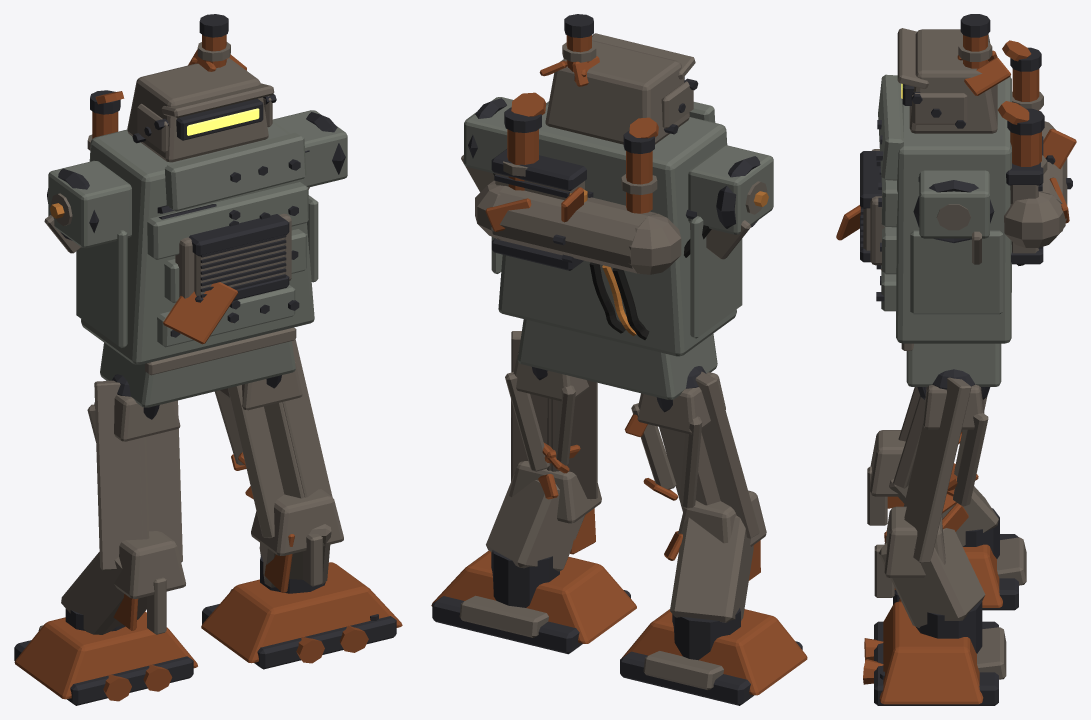
The model's file is ch_reaper.glb.
3 views of the same model, side by side, from view 1: azimuth 30°, elevation 25°; view 2: azimuth 150°, elevation 25°; view 3: azimuth 270°, elevation 25° (orthographic). The views are drawn at different scales.
Visible parts, largest first — view 1: ch_reaper, limb_leg_l, limb_leg_r; view 2: ch_reaper, limb_leg_l, limb_leg_r; view 3: ch_reaper, limb_leg_r, limb_leg_l.
Part boxes in pixels (bbox=[...]): ch_reaper: bbox=[44, 14, 347, 407]; limb_leg_l: bbox=[14, 374, 197, 705]; limb_leg_r: bbox=[201, 339, 402, 669]; ch_reaper: bbox=[461, 14, 773, 399]; limb_leg_l: bbox=[620, 366, 807, 705]; limb_leg_r: bbox=[431, 331, 636, 654]; ch_reaper: bbox=[836, 14, 1076, 392]; limb_leg_r: bbox=[863, 369, 1006, 705]; limb_leg_l: bbox=[867, 387, 1026, 610].
Size of the model in its own units: 0.4345 by 0.7718 by 0.2708.
